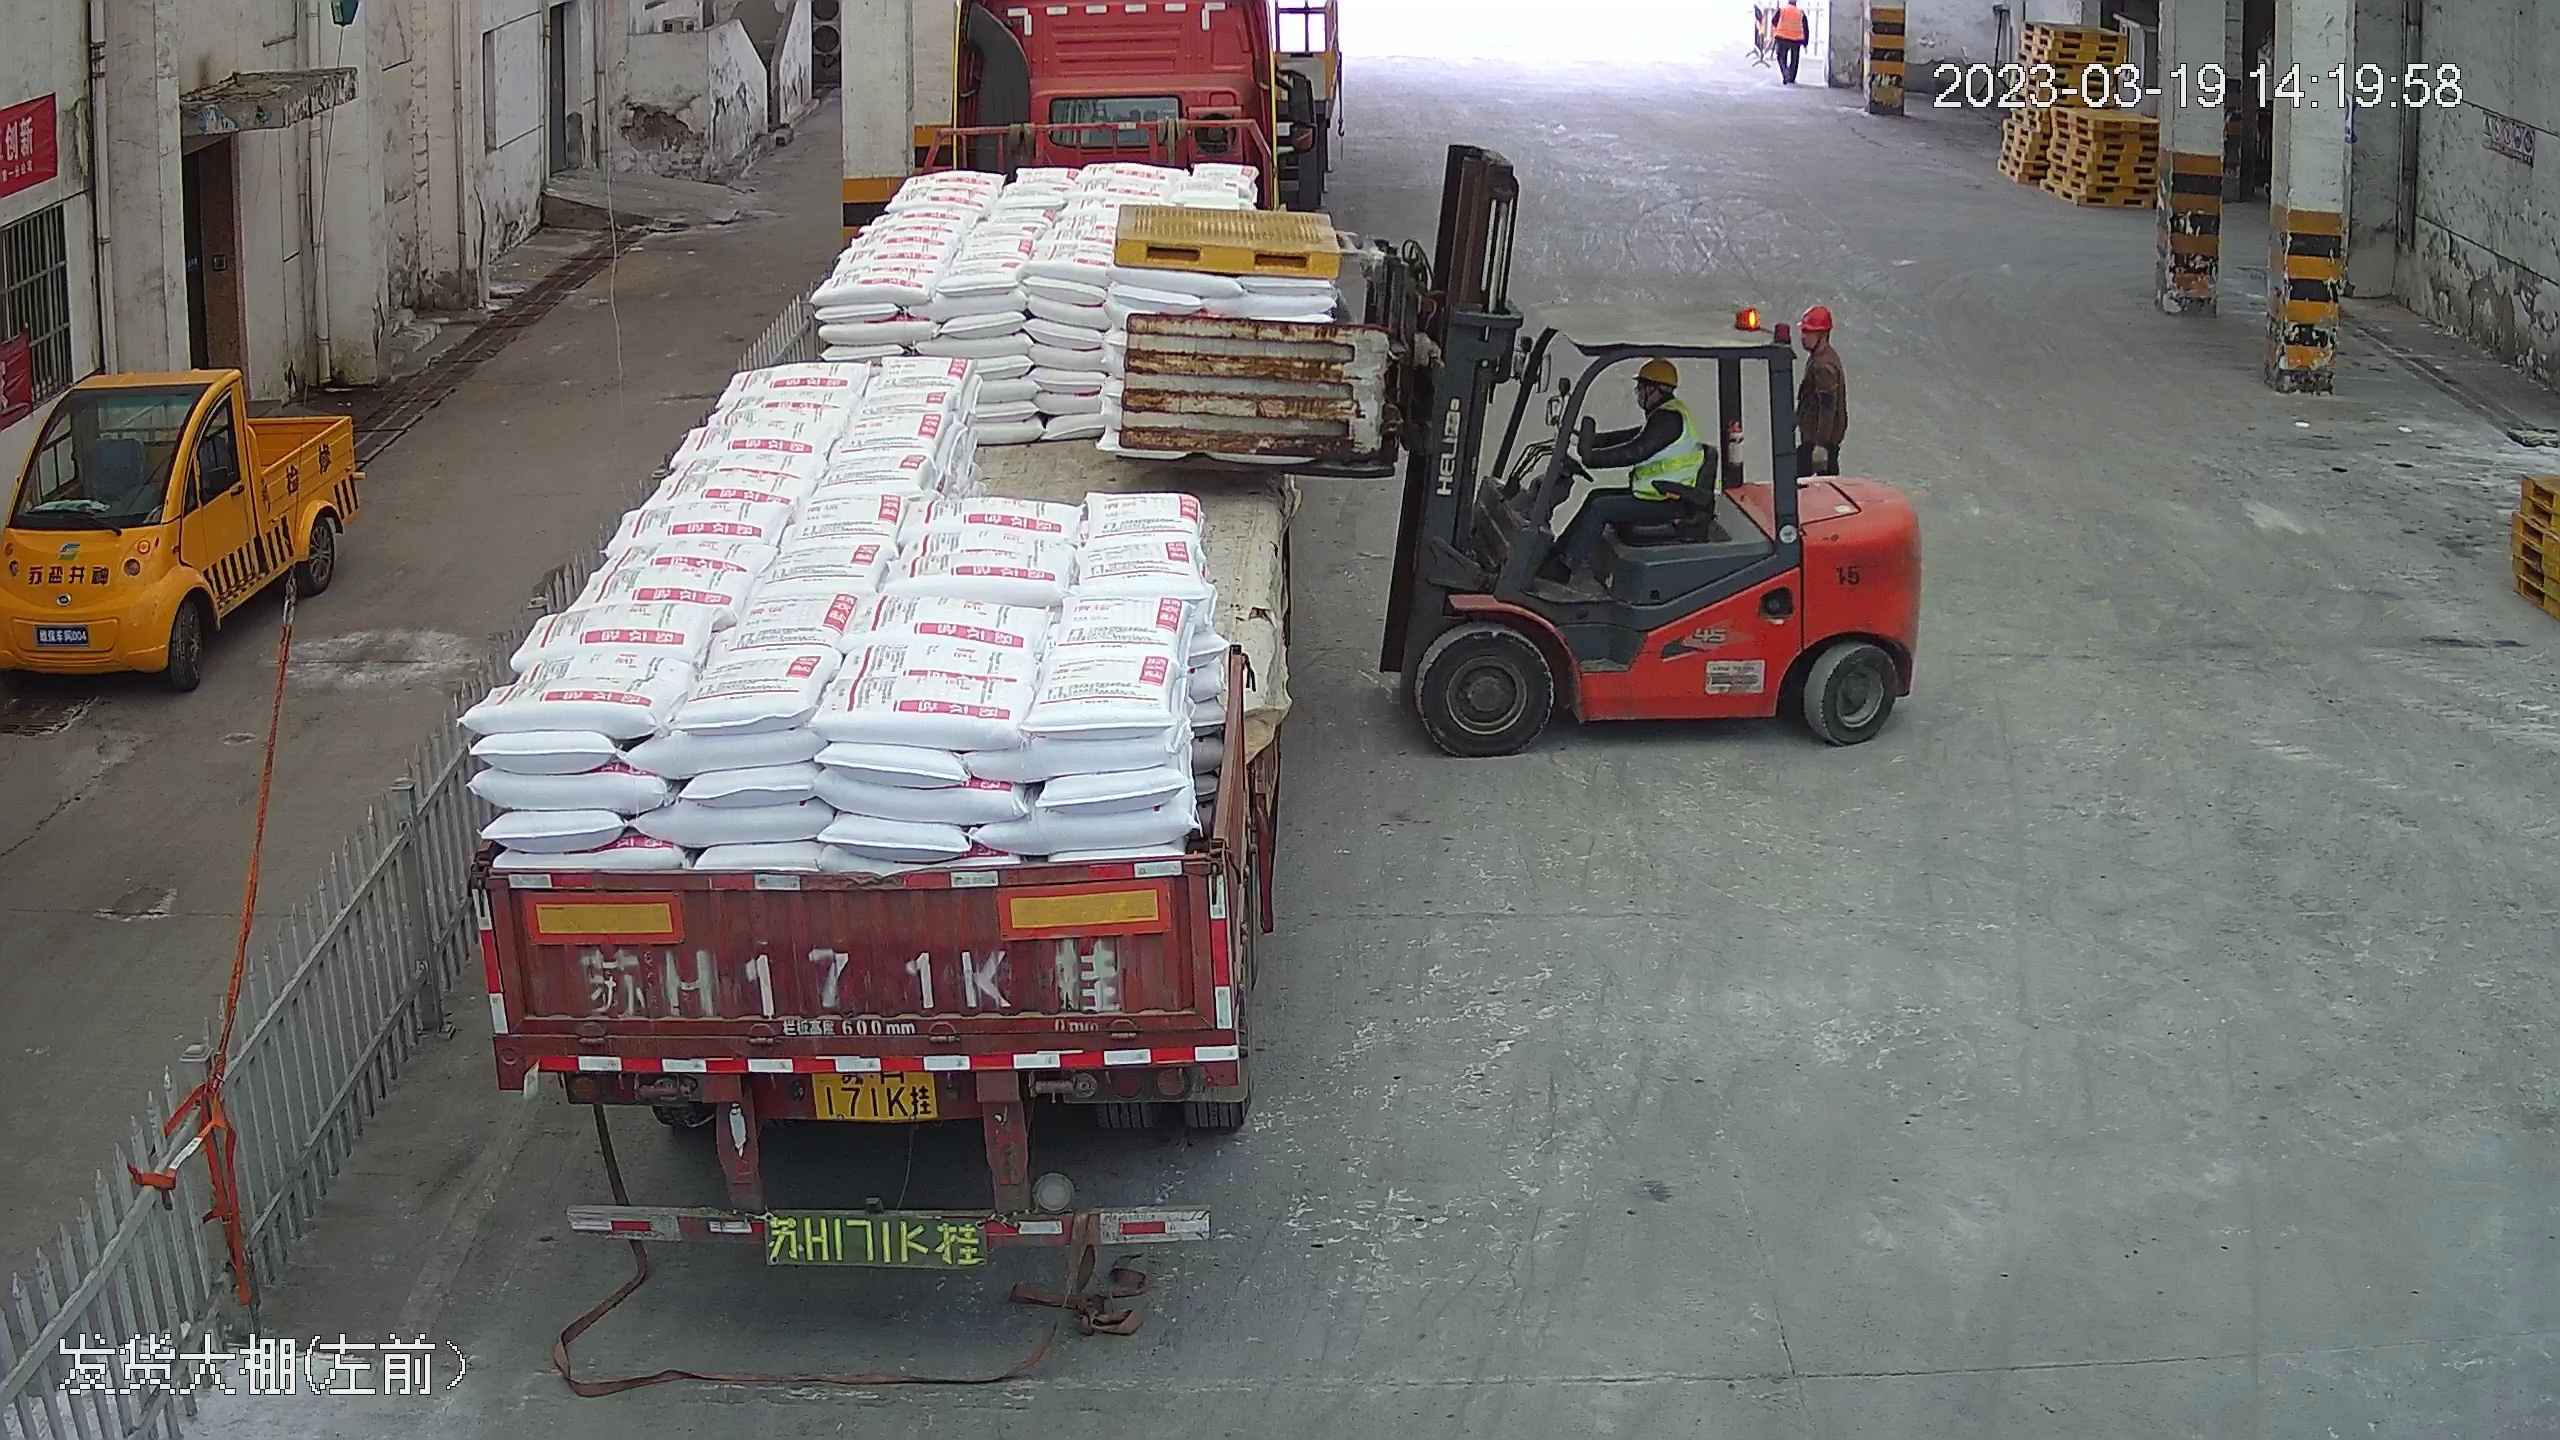head: (1618, 356, 1690, 447), (1794, 302, 1847, 376)
helmet: (1633, 357, 1678, 387), (1800, 303, 1834, 330)
people: (1540, 353, 1697, 589), (1791, 302, 1851, 490)
truck: (442, 4, 1319, 1268)
